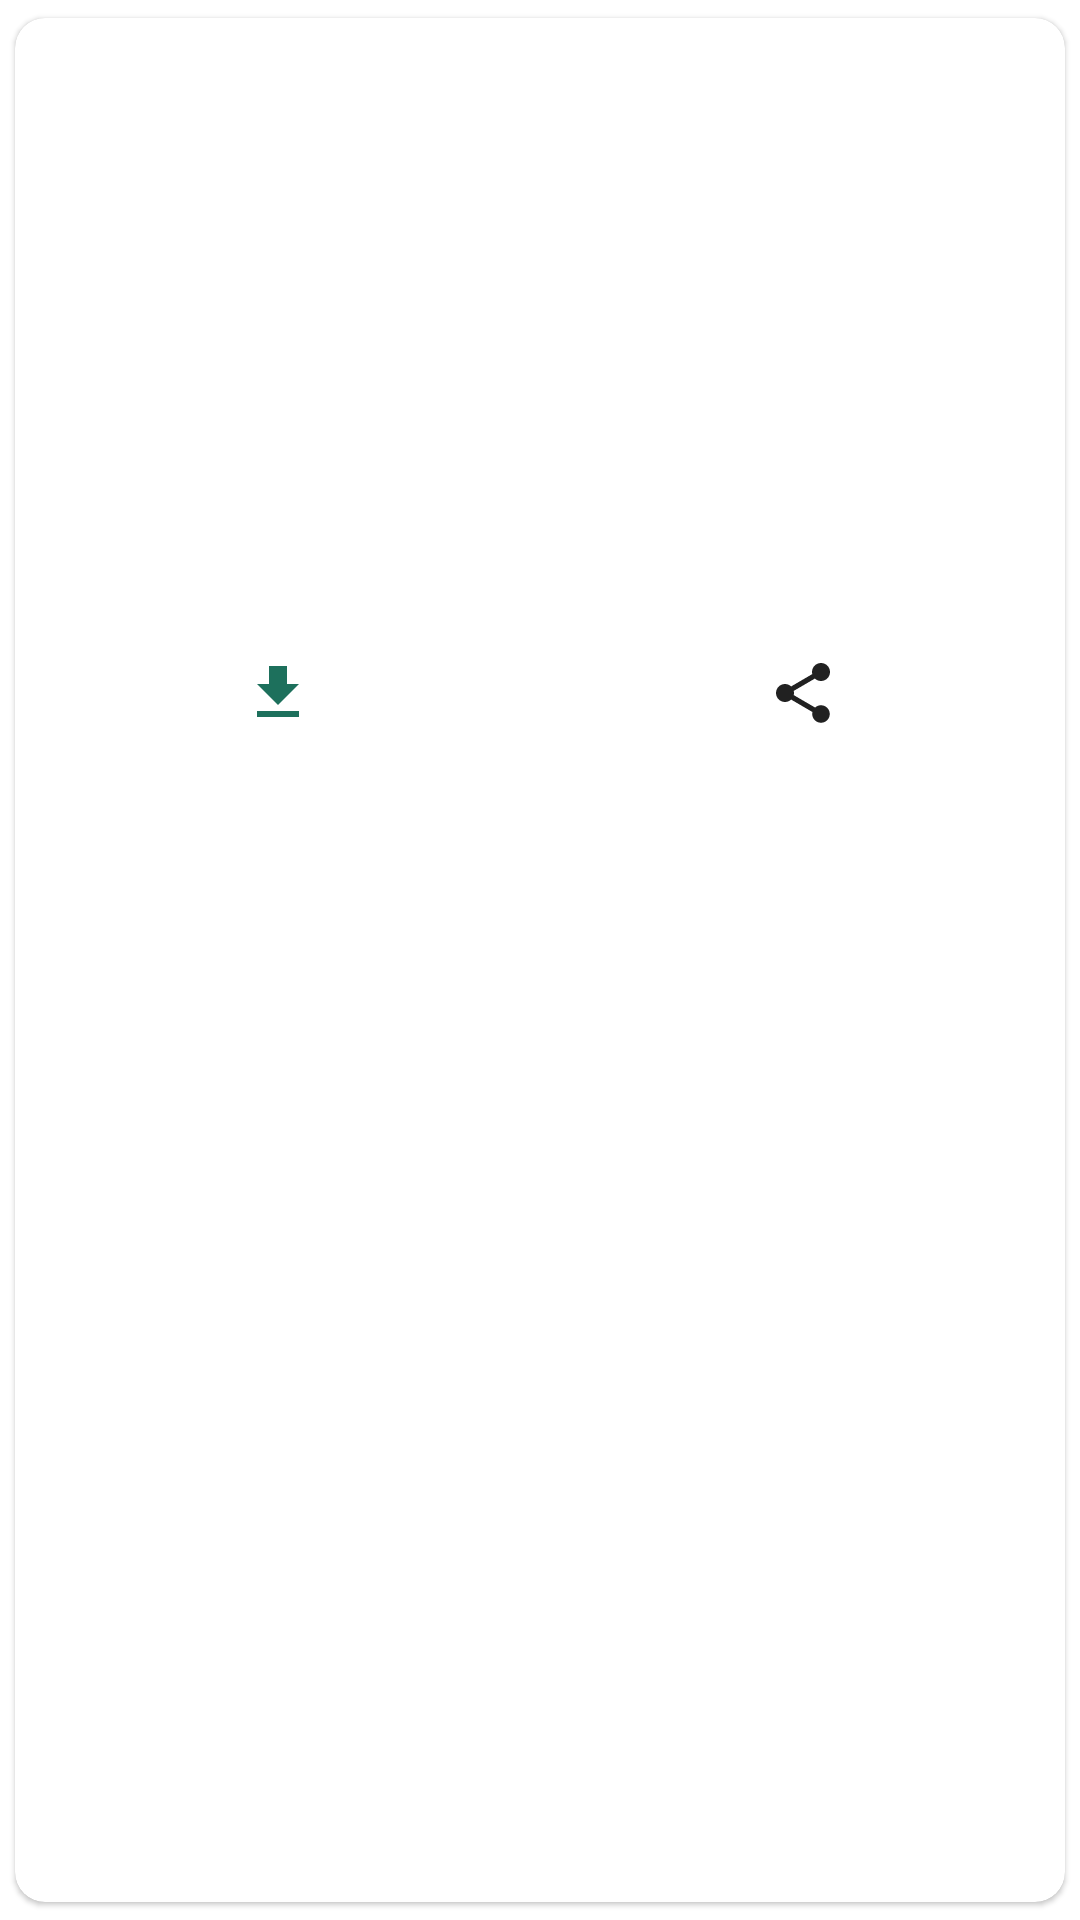

Named icons in this screenshot (1080×1920) and their centers, point (x, y):
file download: point (278, 691)
share: point (803, 693)
